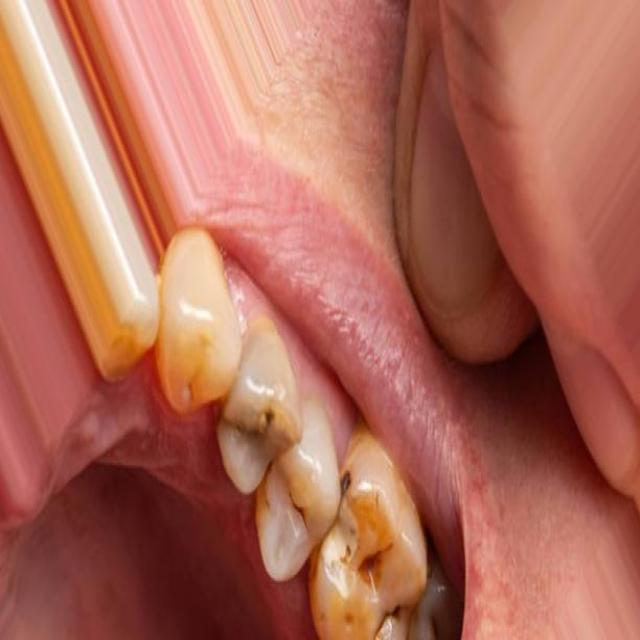caries: (228, 385, 288, 466), (346, 519, 404, 592), (280, 480, 321, 539), (333, 455, 369, 504), (374, 597, 415, 640), (337, 597, 368, 640)
